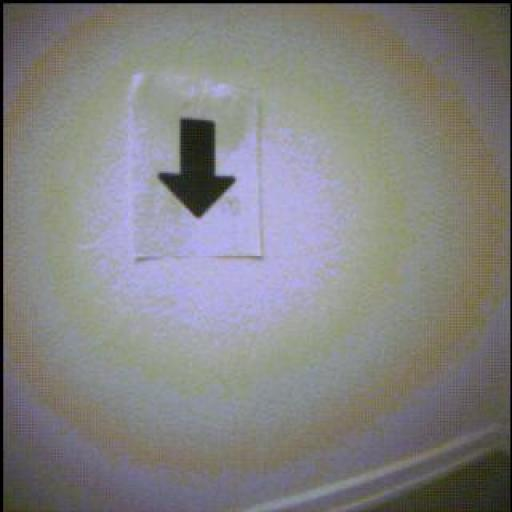Arrow: (160, 120, 237, 219)
